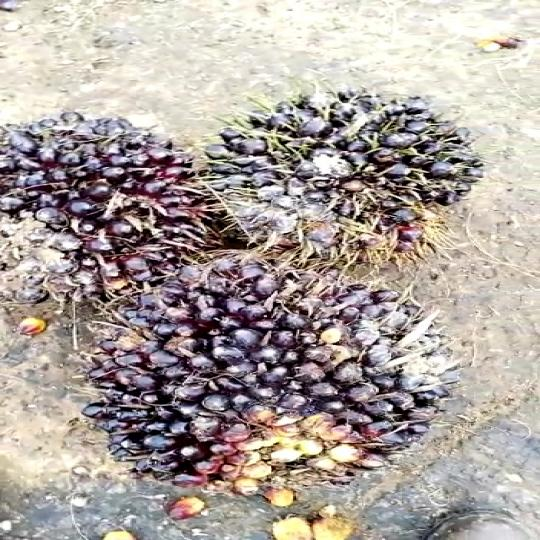mentah: (103, 244, 446, 497), (185, 83, 510, 266), (0, 110, 250, 330)
